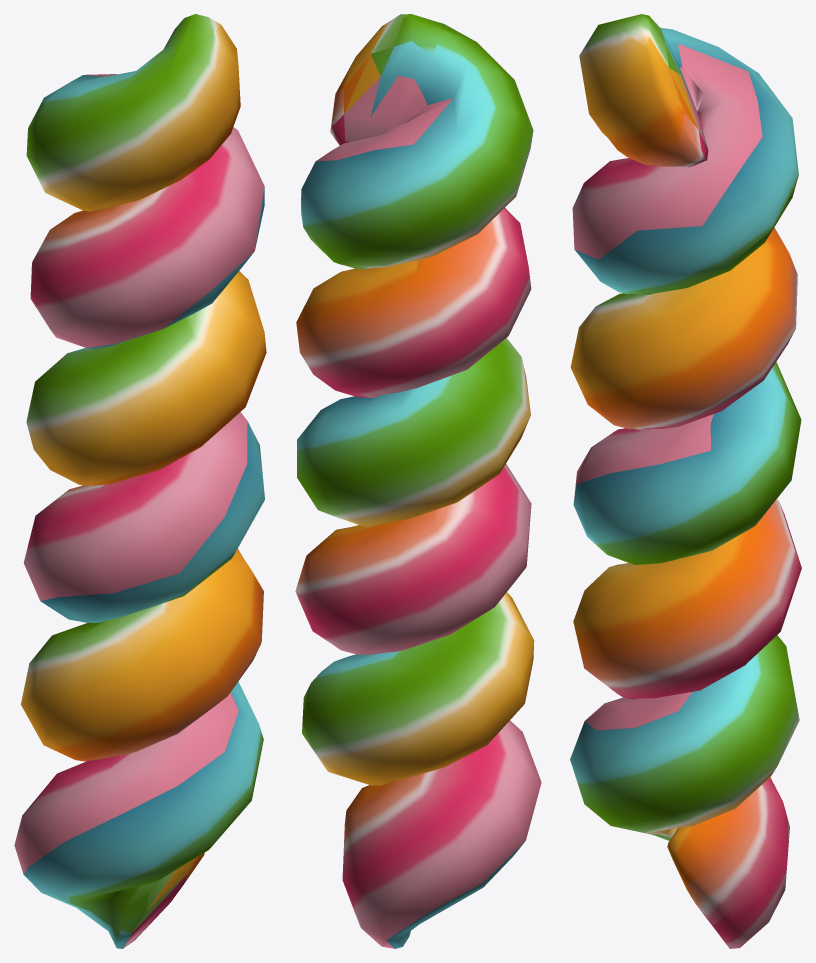
Rendered from loliPop.fbx.
3 renders of one model, left to right at view 1: azimuth 30°, elevation 25°; view 2: azimuth 150°, elevation 25°; view 3: azimuth 270°, elevation 25°, orthographic. The views are drawn at different scales.
Visible parts, largest first — view 1: LollipopCandy.001; view 2: LollipopCandy.001; view 3: LollipopCandy.001.
Part boxes in pixels (x1=…): LollipopCandy.001: x1=14, y1=14, x2=266, y2=948; LollipopCandy.001: x1=295, y1=14, x2=541, y2=948; LollipopCandy.001: x1=570, y1=14, x2=801, y2=948.
Size of the model in its own units: 104 by 415 by 92.19.
